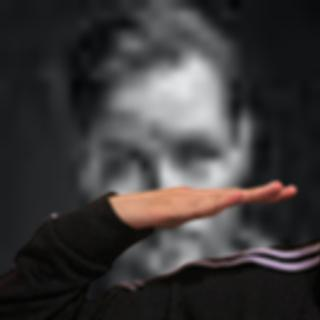Wait: (108, 164, 298, 233)
